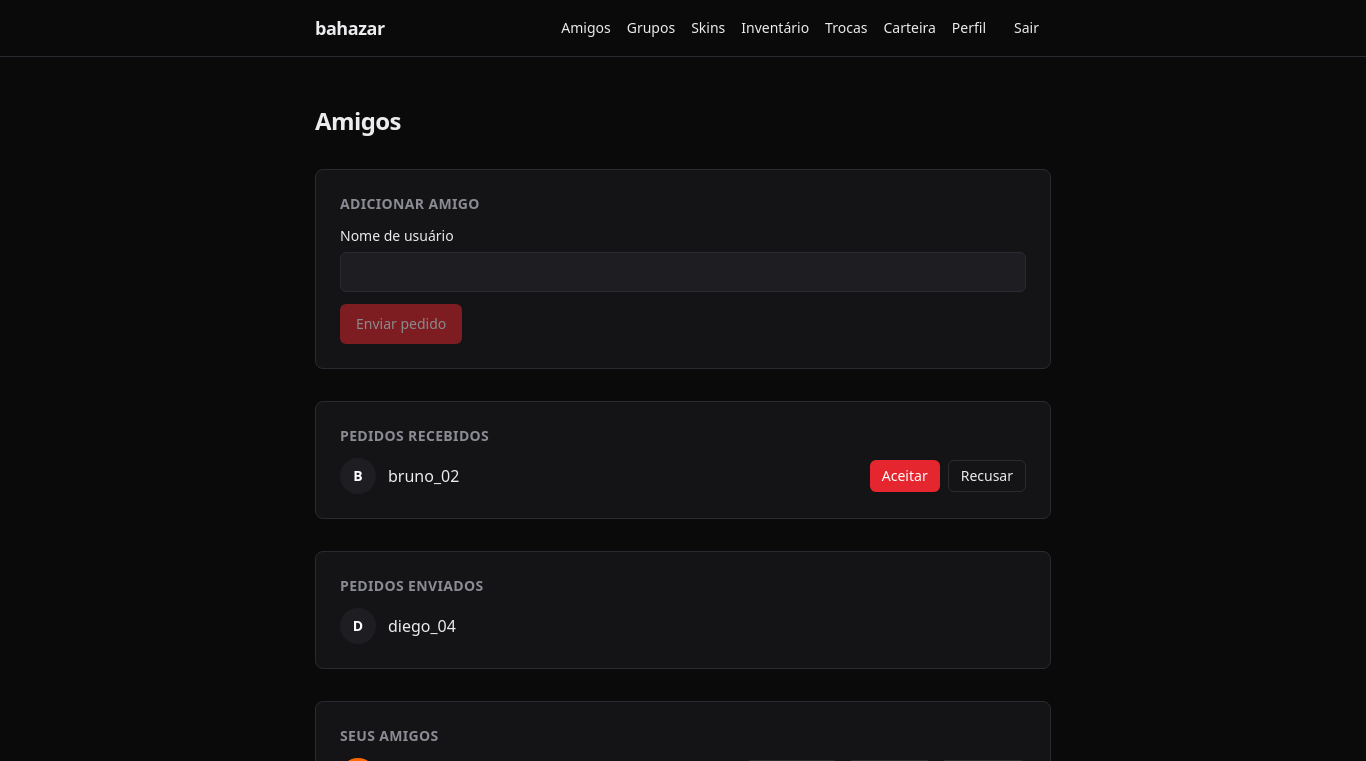
Test: FriendsPage › envia o pedido (sem espaços nas pontas, com CSRF), limpa o campo e lista em Enviados
Expected: the heading "Amigos" is shown, x1=315 y1=104 x2=401 y2=137
Type "  frida_06 " into the field labelled "Nome de usuário" at (683, 272), box x1=340 y1=252 x2=1026 y2=292
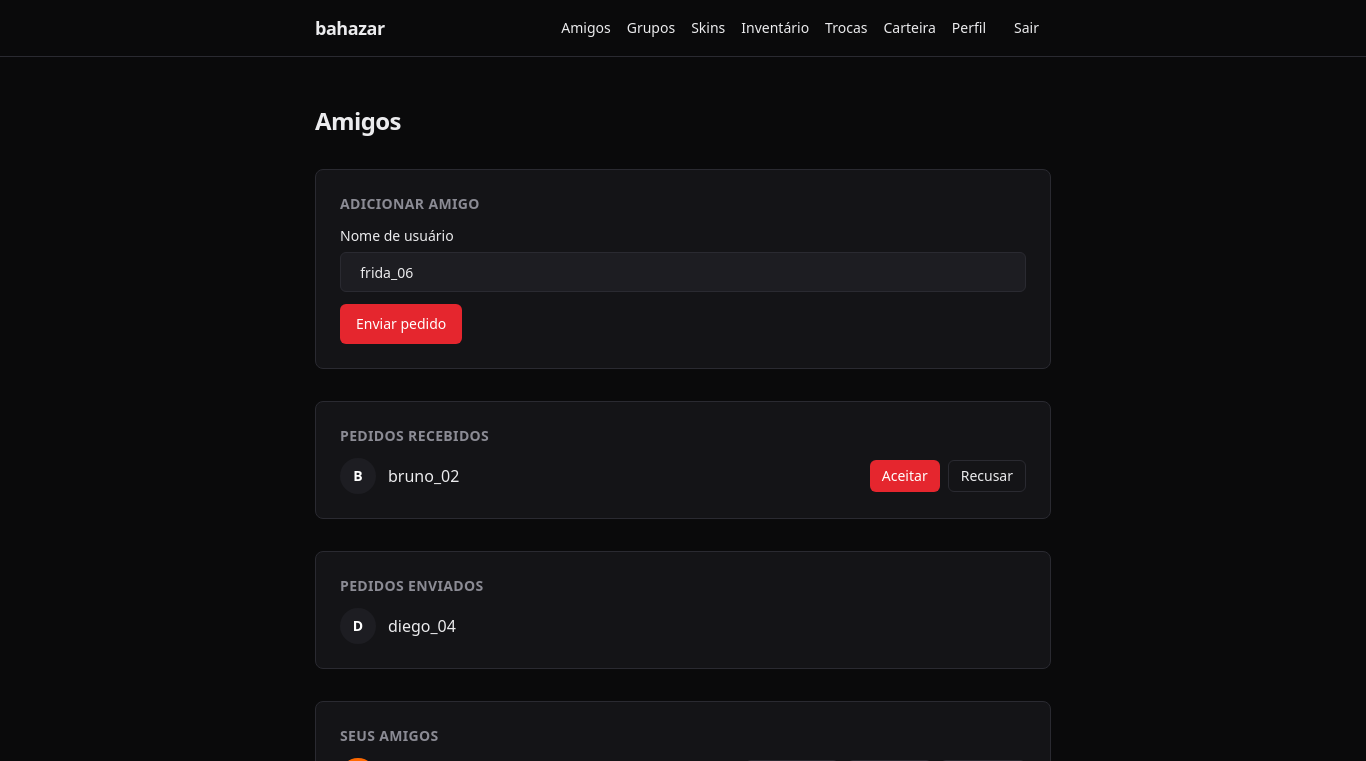
Click the button "Enviar pedido" at (401, 324), box x1=340 y1=304 x2=462 y2=344
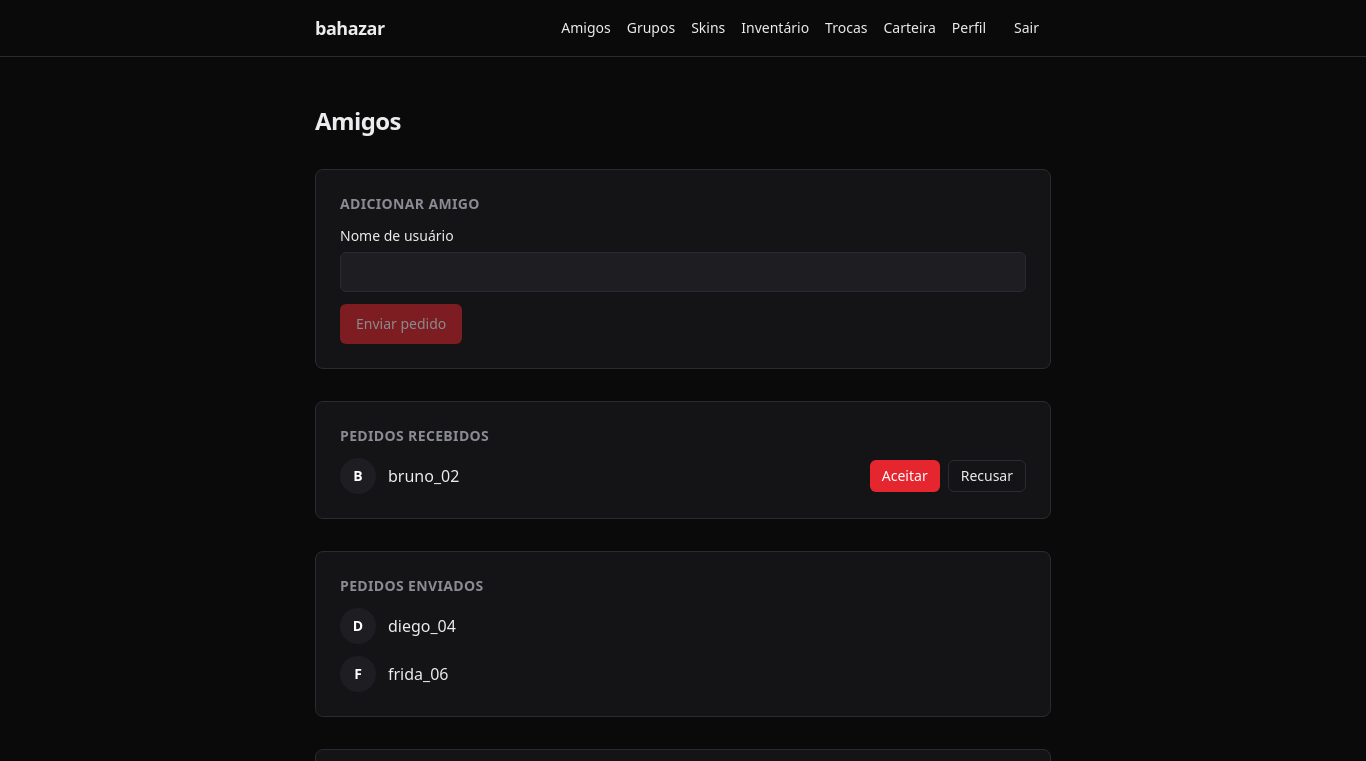
Result: the text "frida_06" is shown at x1=388 y1=663 x2=448 y2=685
Result: the field labelled "Nome de usuário" is empty at x1=340 y1=252 x2=1026 y2=292
